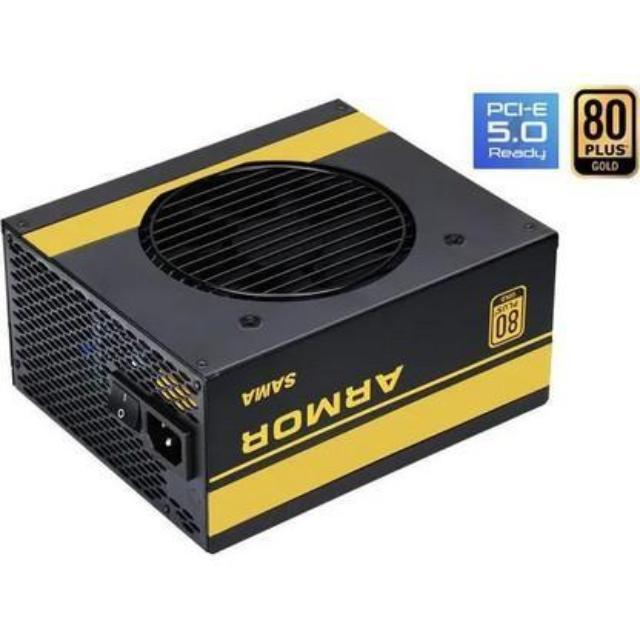PSU: (0, 82, 560, 568)
